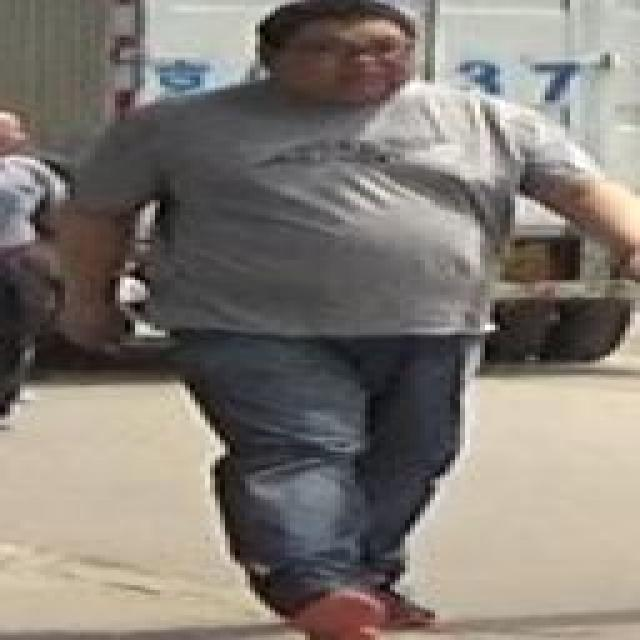adult: (50, 10, 640, 622)
